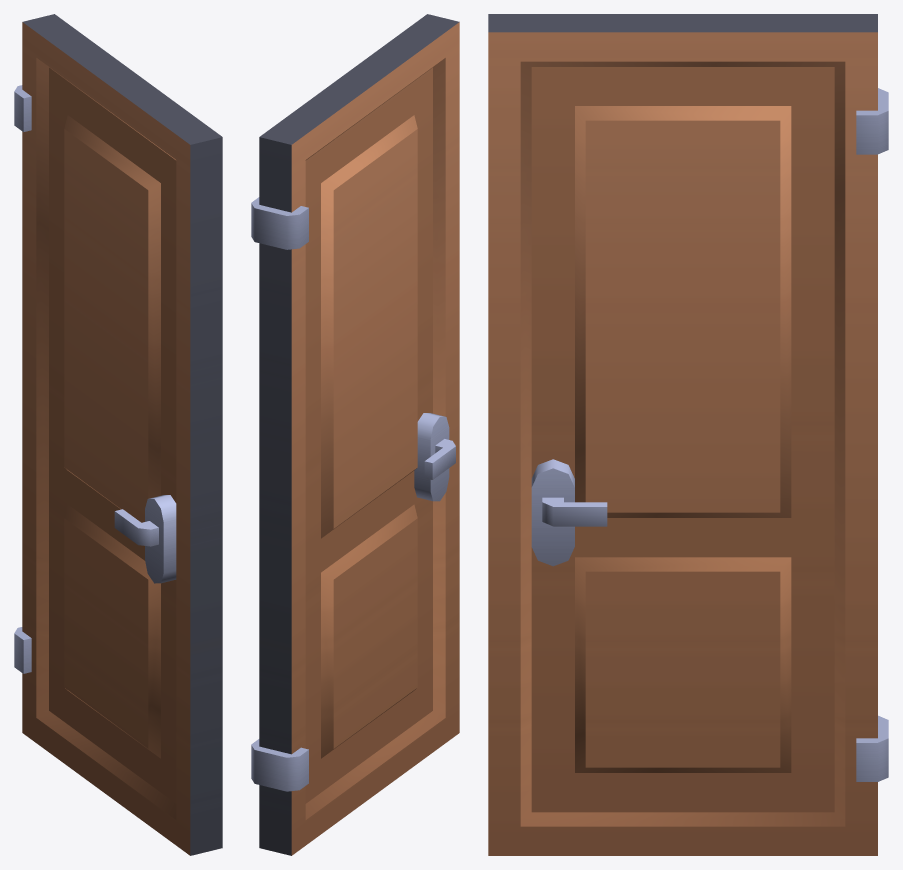
The model's file is Wooden Door.glb.
3 renders of one model, left to right at view 1: azimuth 30°, elevation 25°; view 2: azimuth 150°, elevation 25°; view 3: azimuth 270°, elevation 25°, orthographic. The views are drawn at different scales.
Visible parts, largest first — view 1: door, handle; view 2: door, handle; view 3: door, handle.
Part boxes in pixels (left/top/right/bottom): door: left=14, top=14, right=222, bottom=855; handle: left=114, top=509, right=158, bottom=546; door: left=251, top=14, right=459, bottom=855; handle: left=424, top=439, right=455, bottom=479; door: left=488, top=14, right=888, bottom=855; handle: left=542, top=497, right=607, bottom=526.
Size of the model in its own units: 0.25 by 2.1 by 0.925.
1 material, 1 textured.
